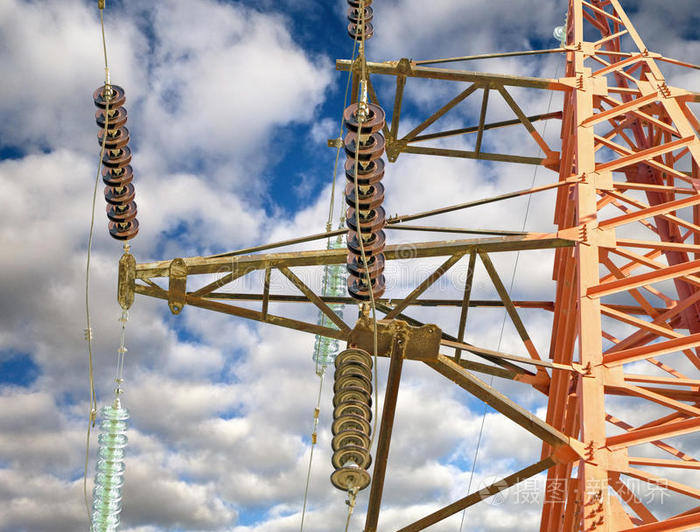insulator: (340, 104, 387, 301), (93, 85, 140, 237), (332, 349, 372, 493), (88, 406, 129, 532), (311, 241, 346, 364), (347, 1, 375, 40)
